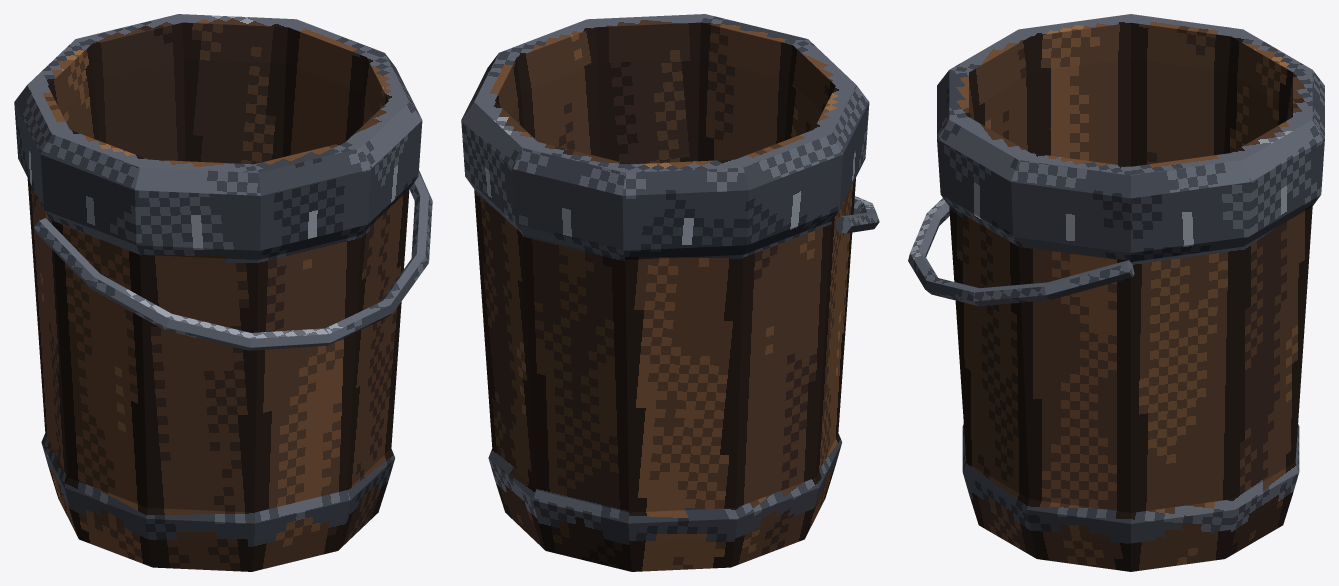
The model's file is SM_Prop_Bucket_01.glb.
3 views of the same model, side by side, from view 1: azimuth 30°, elevation 25°; view 2: azimuth 150°, elevation 25°; view 3: azimuth 270°, elevation 25° (orthographic).
Parts seen in each view (by area): view 1: vessel, handle; view 2: vessel, handle; view 3: vessel, handle.
Part boxes in pixels (box(x1,y1,x2,y2)): vessel: box(14, 14, 422, 571); handle: box(33, 170, 432, 350); vessel: box(461, 14, 869, 571); handle: box(834, 196, 879, 233); vessel: box(937, 14, 1324, 571); handle: box(908, 198, 1134, 306).
Size of the model in its own units: 0.3298 by 0.35 by 0.3229.
1 material, 1 textured.
